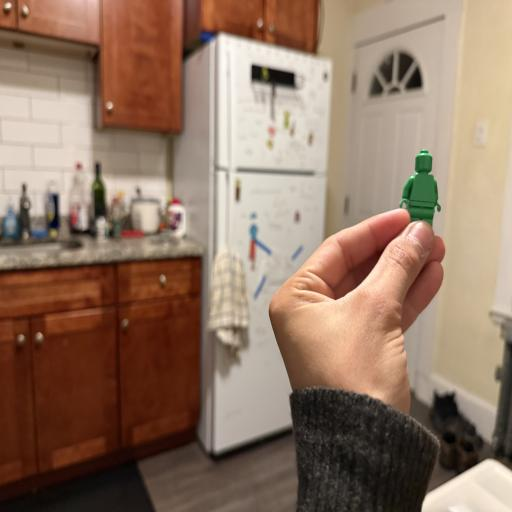Minifig: (400, 150, 440, 225)
